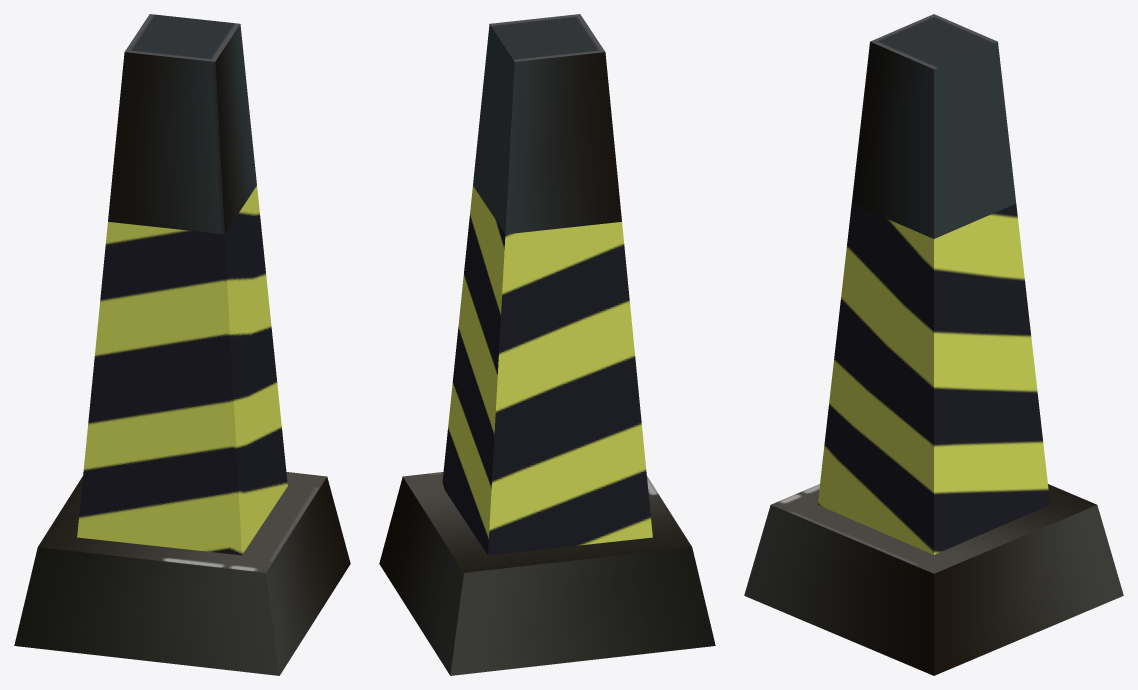
File: jingjiedun.fbx
3 views of the same model, side by side, from view 1: azimuth 30°, elevation 25°; view 2: azimuth 150°, elevation 25°; view 3: azimuth 270°, elevation 25° (orthographic). The views are drawn at different scales.
Visible parts, largest first — view 1: DJ_JJD_03; view 2: DJ_JJD_03; view 3: DJ_JJD_03.
Part boxes in pixels (bbox=[...]): DJ_JJD_03: bbox=[14, 14, 350, 675]; DJ_JJD_03: bbox=[379, 14, 715, 675]; DJ_JJD_03: bbox=[744, 14, 1123, 675].
Size of the model in its own units: 6.48 by 10.43 by 6.48.
Materials: 1 (1 with a texture image).
